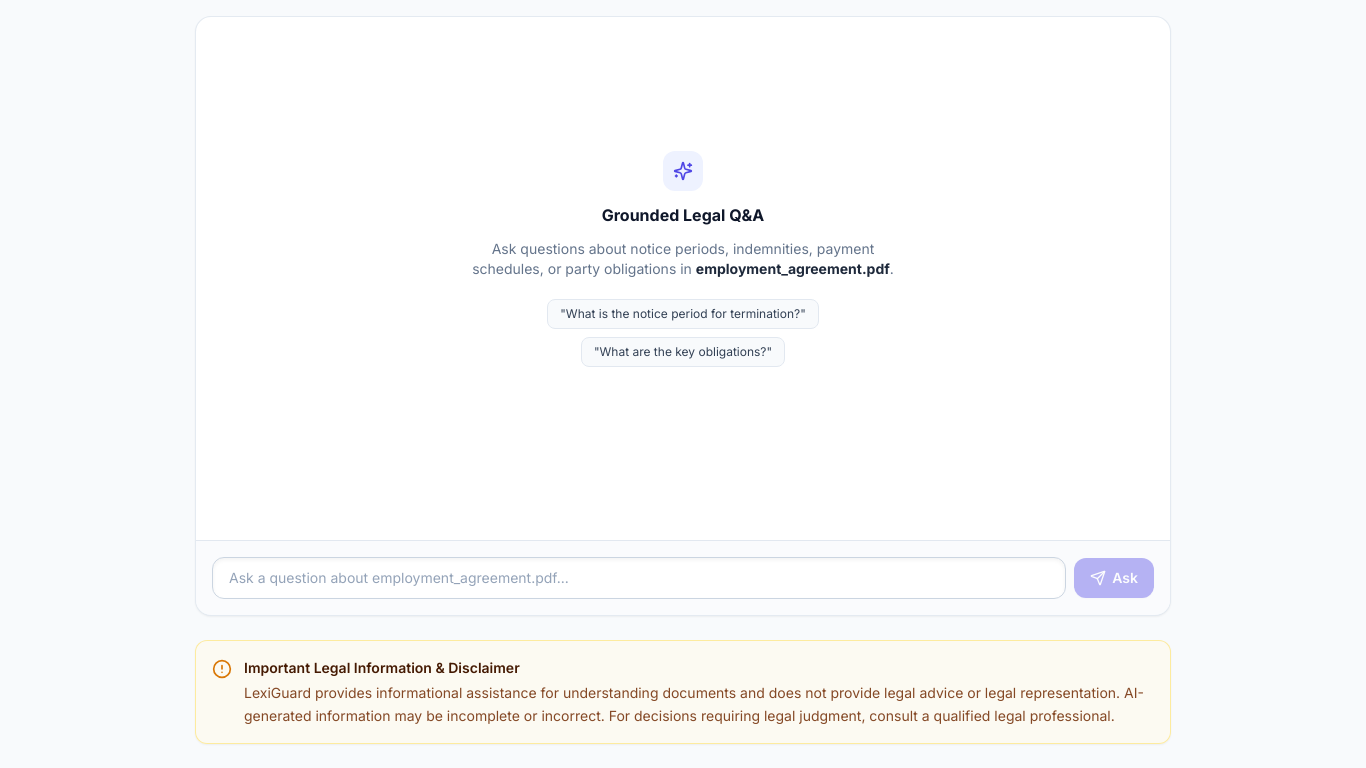
Scenario: ChatPage Component › submits a question and renders a grounded answer with source page citation
(page scrolled)
Step 1. Type "What is the notice period?" into the field with placeholder "Ask a question about employment_agreement.pdf..." → (639, 578), box 212,557 -> 1066,599
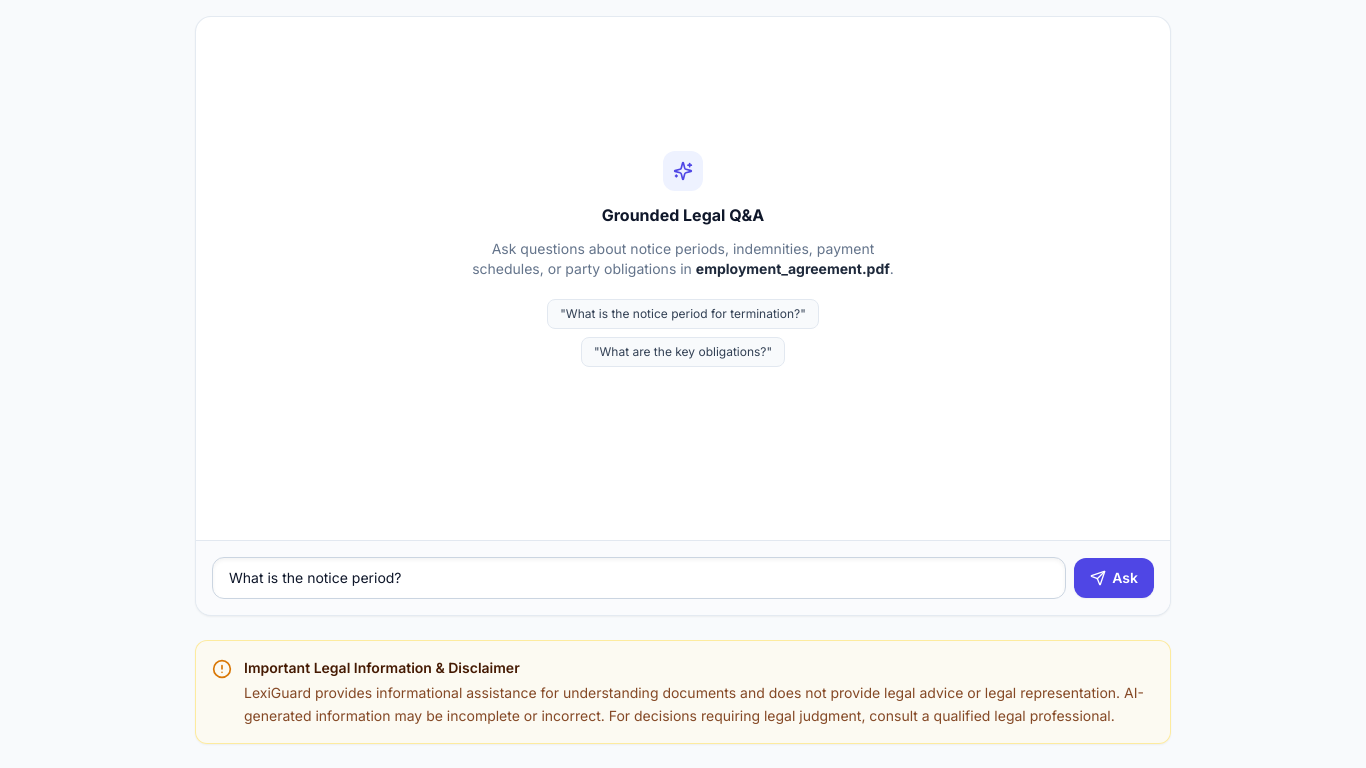
Step 2. Click the button with aria-label "send question" → (1114, 578), box 1074,558 -> 1154,598
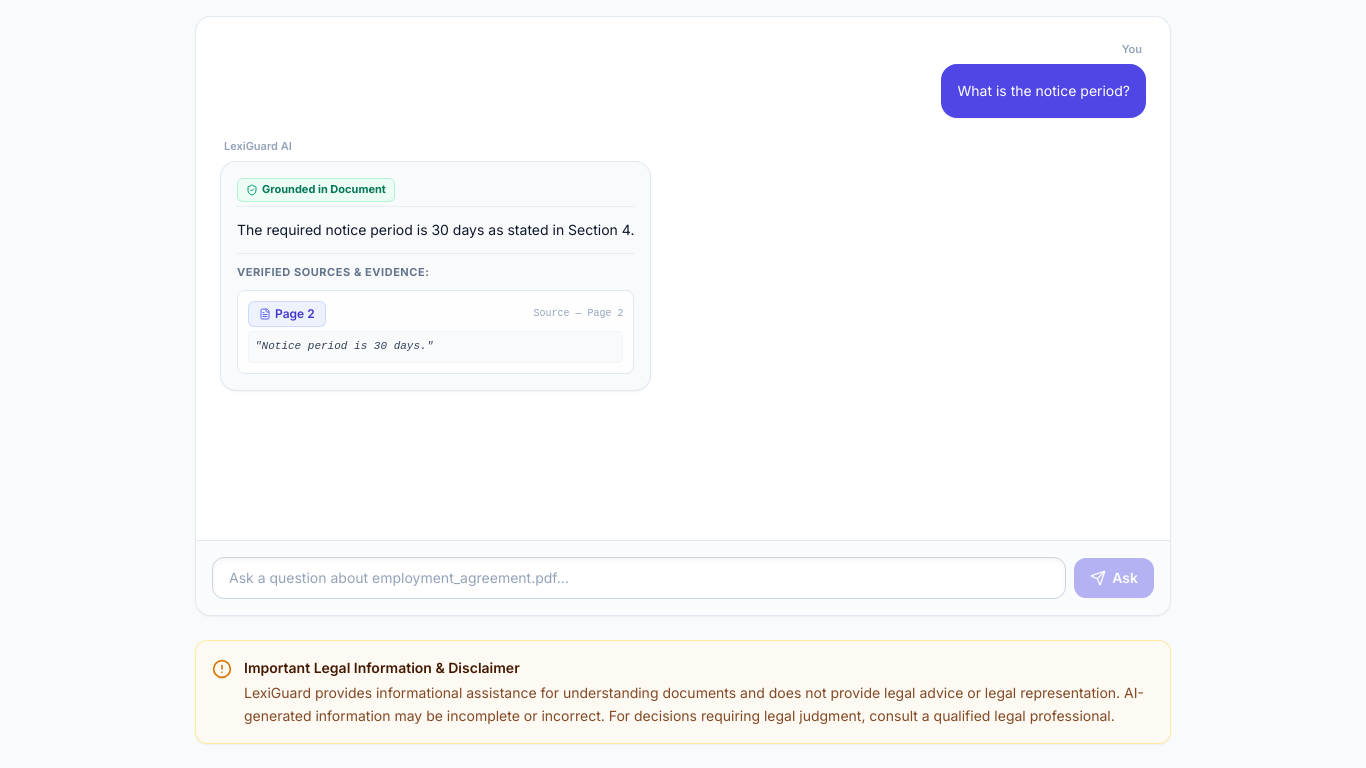
expect the text "The required notice period is 30 days" is shown: met, box 237,221 -> 634,238
expect the text "Grounded in Document" is shown: met, box 237,178 -> 395,202
expect the button with aria-label "jump to source page 2" is shown: met, box 248,301 -> 326,327
